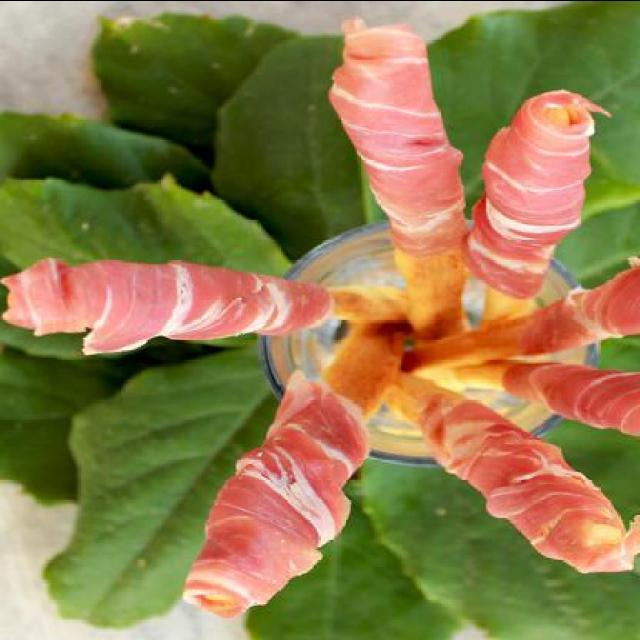Grissini: (10, 28, 632, 618)
